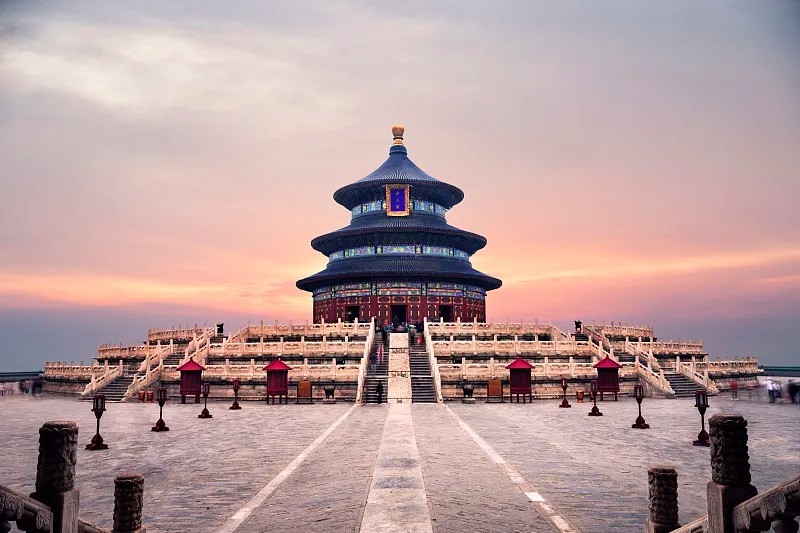Heaven: (295, 126, 502, 328)
